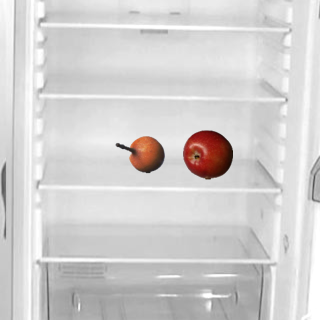Apple Braeburn: (182, 129, 232, 179)
Granadilla: (114, 129, 164, 179)
